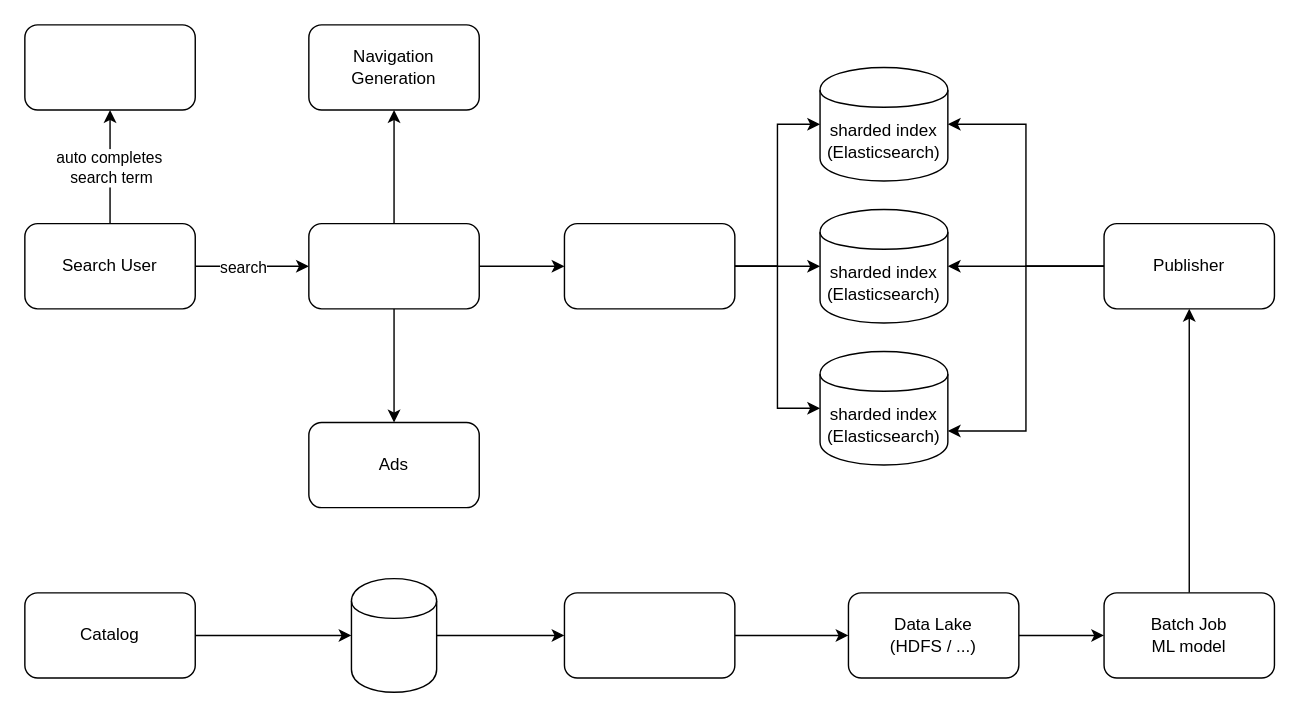
This 1299x717 diagram has some shape labels left out. The shapes that lost their labels are listed below. From the top down, each one's centre as x and y in pixels, then its label:
At point (109, 66): "Search Term Completion Service".
At point (393, 265): "Search Aggregator".
At point (649, 265): "SearchBackend".
At point (393, 634): "Catalog DB".
At point (649, 634): "Publishing (Kafka)".
